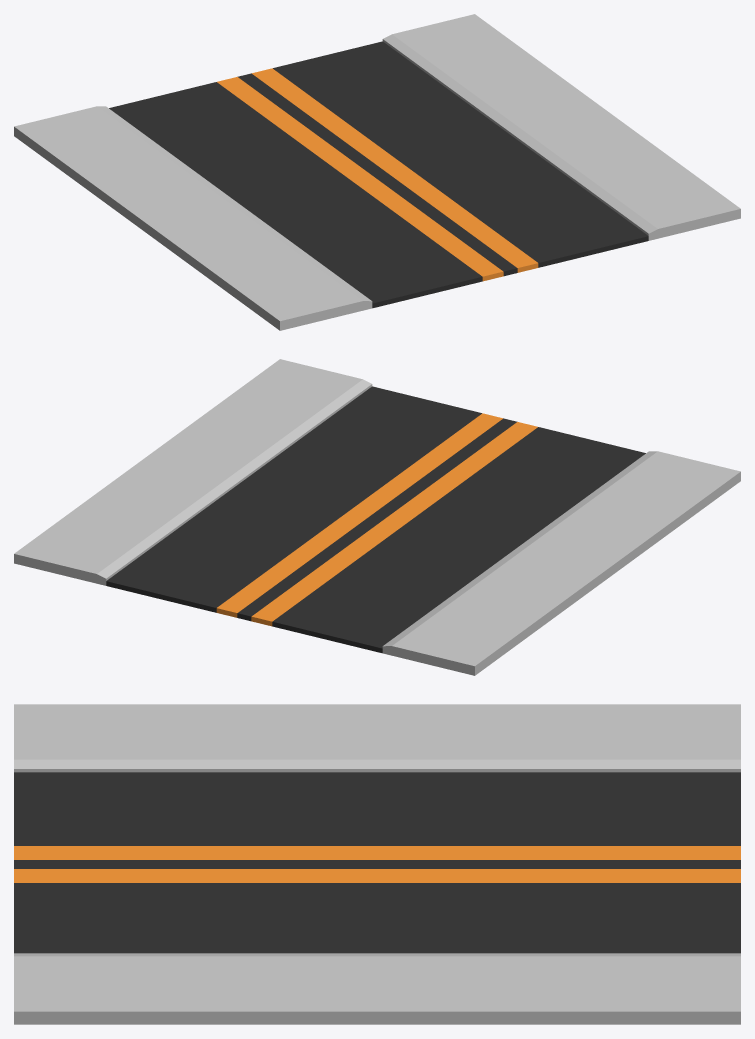
The model's file is Road_Straight.fbx.
3 views of the same model, one above another, from view 1: azimuth 30°, elevation 25°; view 2: azimuth 150°, elevation 25°; view 3: azimuth 270°, elevation 25° (orthographic). The views are drawn at different scales.
Parts seen in each view (by area): view 1: Straight; view 2: Straight; view 3: Straight.
Part boxes in pixels (x1,y1,x2,y2): Straight: [14, 14, 740, 330]; Straight: [14, 359, 740, 675]; Straight: [14, 704, 740, 1024].
Bounding box in the file's own units: 100 × 2 × 100.
